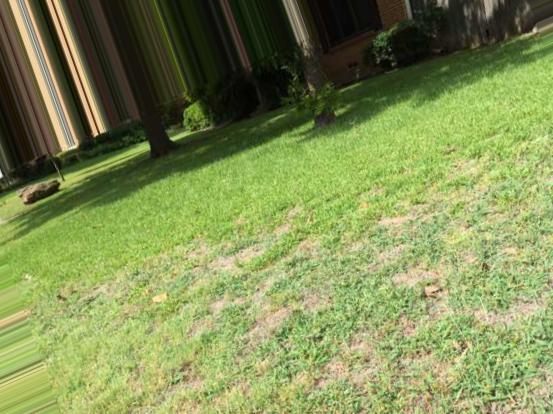patch: (187, 248, 520, 388), (342, 189, 521, 236)
